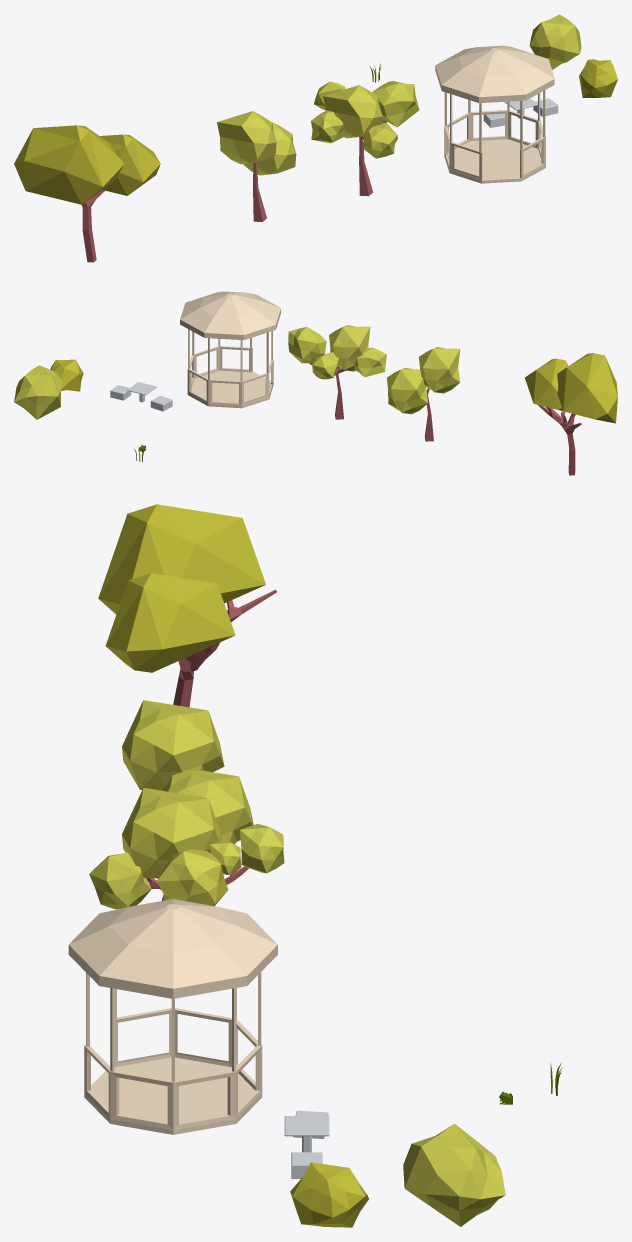
3 renders of one model, top to bottom at view 1: azimuth 30°, elevation 25°; view 2: azimuth 150°, elevation 25°; view 3: azimuth 270°, elevation 25°, orthographic. The views are drawn at different scales.
Parts seen in each view (by area): view 1: pavillon, Tree2, Tree, TreeSmol, Busch, BUsch2, Tischplatte; view 2: pavillon, Tree2, Tree, TreeSmol, Busch, Tischplatte, BUsch2; view 3: pavillon, Tree2, Tree, TreeSmol, Busch, BUsch2, Tischplatte.
Boxes of the visible parts, <box> form: pavillon: <box>435,45,554,183</box>; Tree2: <box>14,125,160,262</box>; Tree: <box>311,81,419,196</box>; TreeSmol: <box>217,111,296,221</box>; Busch: <box>529,14,581,69</box>; BUsch2: <box>579,59,617,97</box>; Tischplatte: <box>483,98,558,127</box>; pavillon: <box>180,291,280,408</box>; Tree2: <box>525,353,617,475</box>; Tree: <box>288,325,386,419</box>; TreeSmol: <box>386,347,460,441</box>; Busch: <box>14,365,62,419</box>; Tischplatte: <box>110,382,172,411</box>; BUsch2: <box>50,359,83,391</box>; pavillon: <box>68,899,277,1134</box>; Tree2: <box>98,504,276,707</box>; Tree: <box>89,788,284,909</box>; TreeSmol: <box>122,700,253,900</box>; Busch: <box>403,1123,505,1226</box>; BUsch2: <box>290,1162,368,1227</box>; Tischplatte: <box>284,1110,329,1178</box>.
Bounding box in the file's own units: 5185 × 1134 × 2072.
